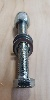FinishedAssembly: (12, 10, 38, 90)
